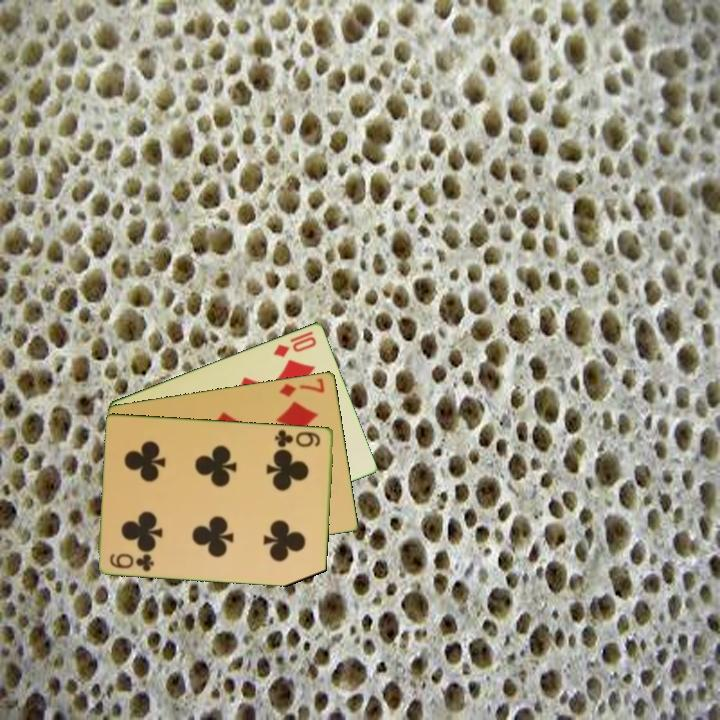10d: (269, 332, 319, 360)
6c: (271, 426, 324, 450), (107, 550, 157, 574)
7d: (276, 374, 328, 399)
